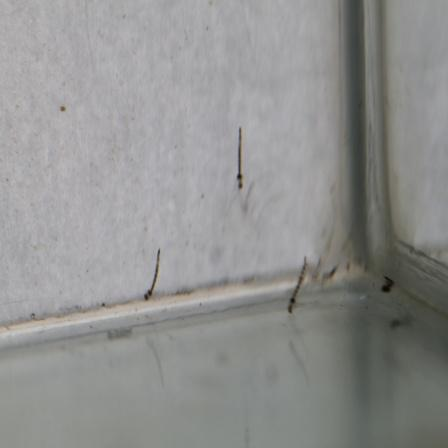Jentik-Nyamuk: (283, 255, 311, 317), (143, 245, 165, 304), (233, 123, 247, 195)
